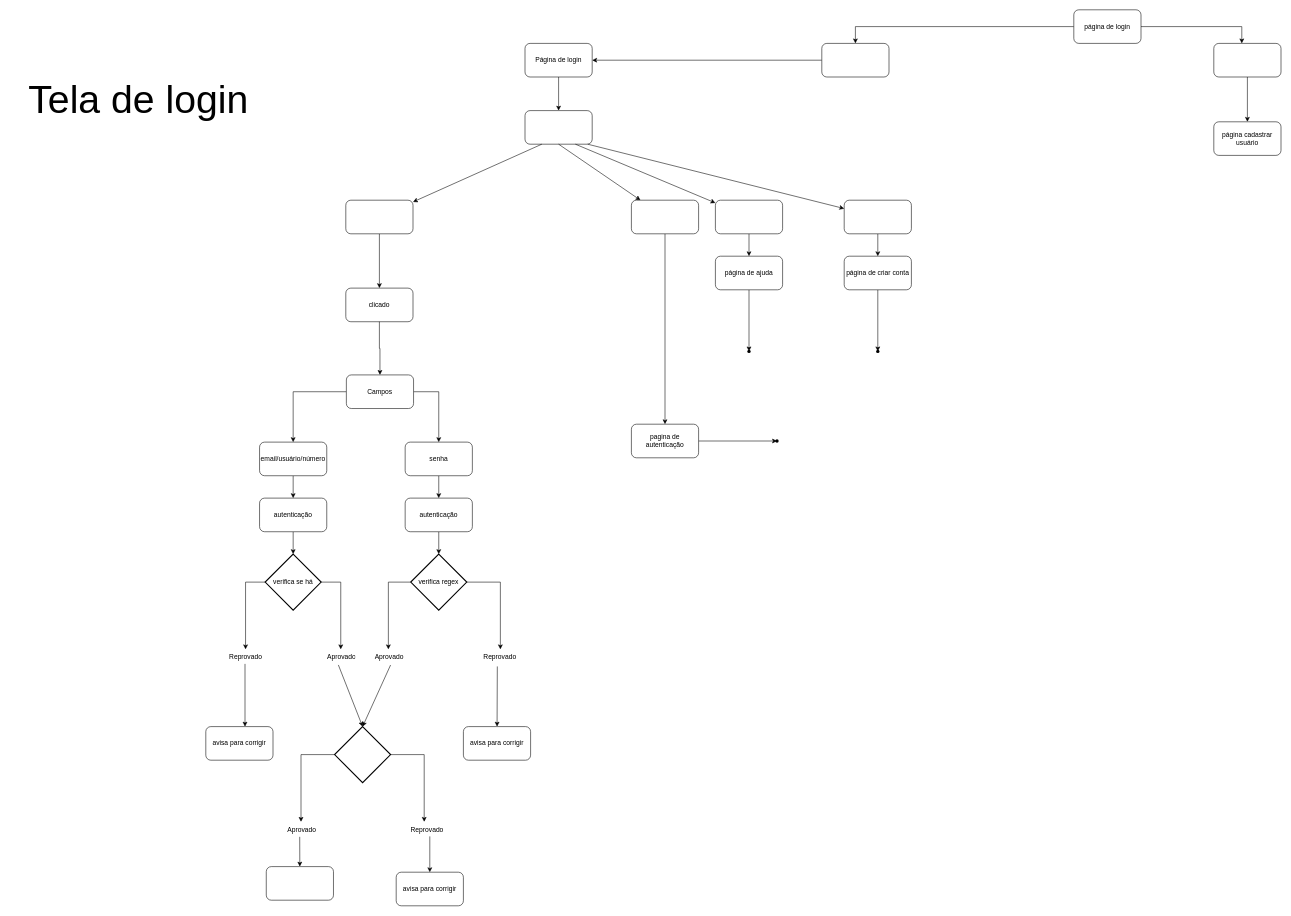
Image size: 1291x916. Some labels were removed from this diagram. The shapes that lost their labels are listed below. From the top down, each one's centre as x and y in pixels, then its label:
At (x=855, y=60): "Botão Logar".
At (x=1247, y=60): "Botão Cadastrar".
At (x=558, y=127): "Botões".
At (x=379, y=217): "entrar".
At (x=665, y=217): "perdi senha".
At (x=749, y=217): "preciso de ajuda".
At (x=877, y=217): "cria conta".
At (x=362, y=754): "verifica rechapta".
At (x=299, y=883): "página de início".
